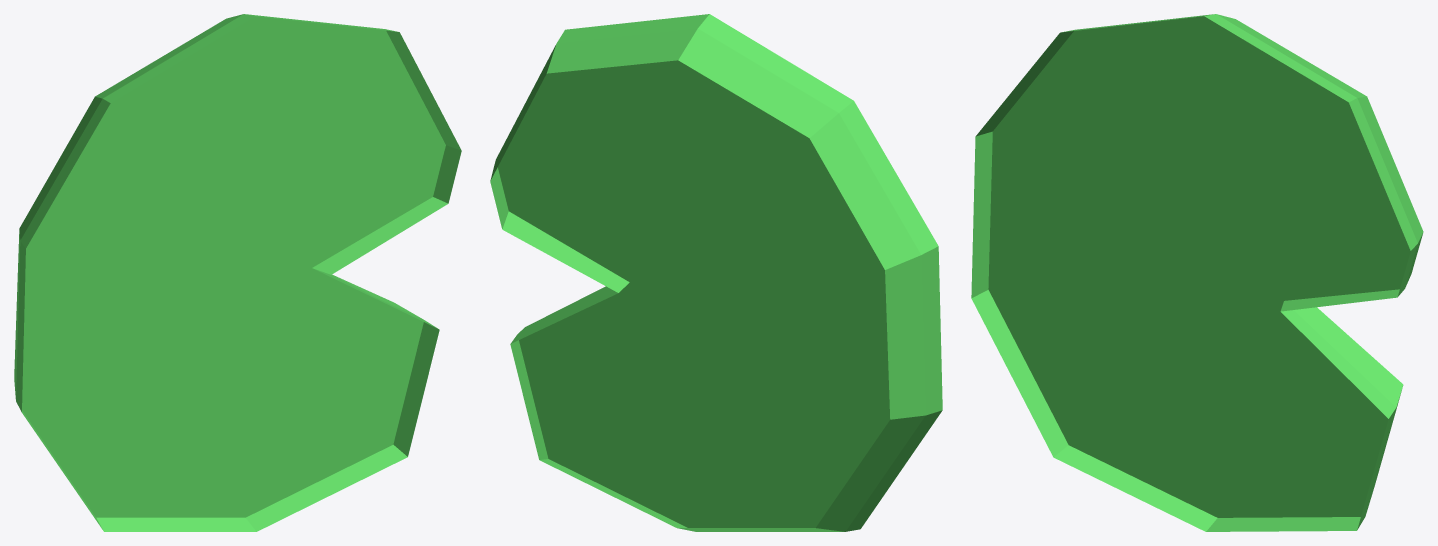
The model's file is pad.glb.
The picture shows the model from 3 angles, left to right: view 1: azimuth 30°, elevation 25°; view 2: azimuth 150°, elevation 25°; view 3: azimuth 330°, elevation 25°; orthographic projection.
Visible parts, largest first — view 1: pad; view 2: pad; view 3: pad.
Boxes of the visible parts, <box> form: pad: <box>14,14,461,531</box>; pad: <box>490,14,942,531</box>; pad: <box>971,14,1423,531</box>.
Bounding box in the file's own units: 1.8 × 2.02 × 0.2138.
